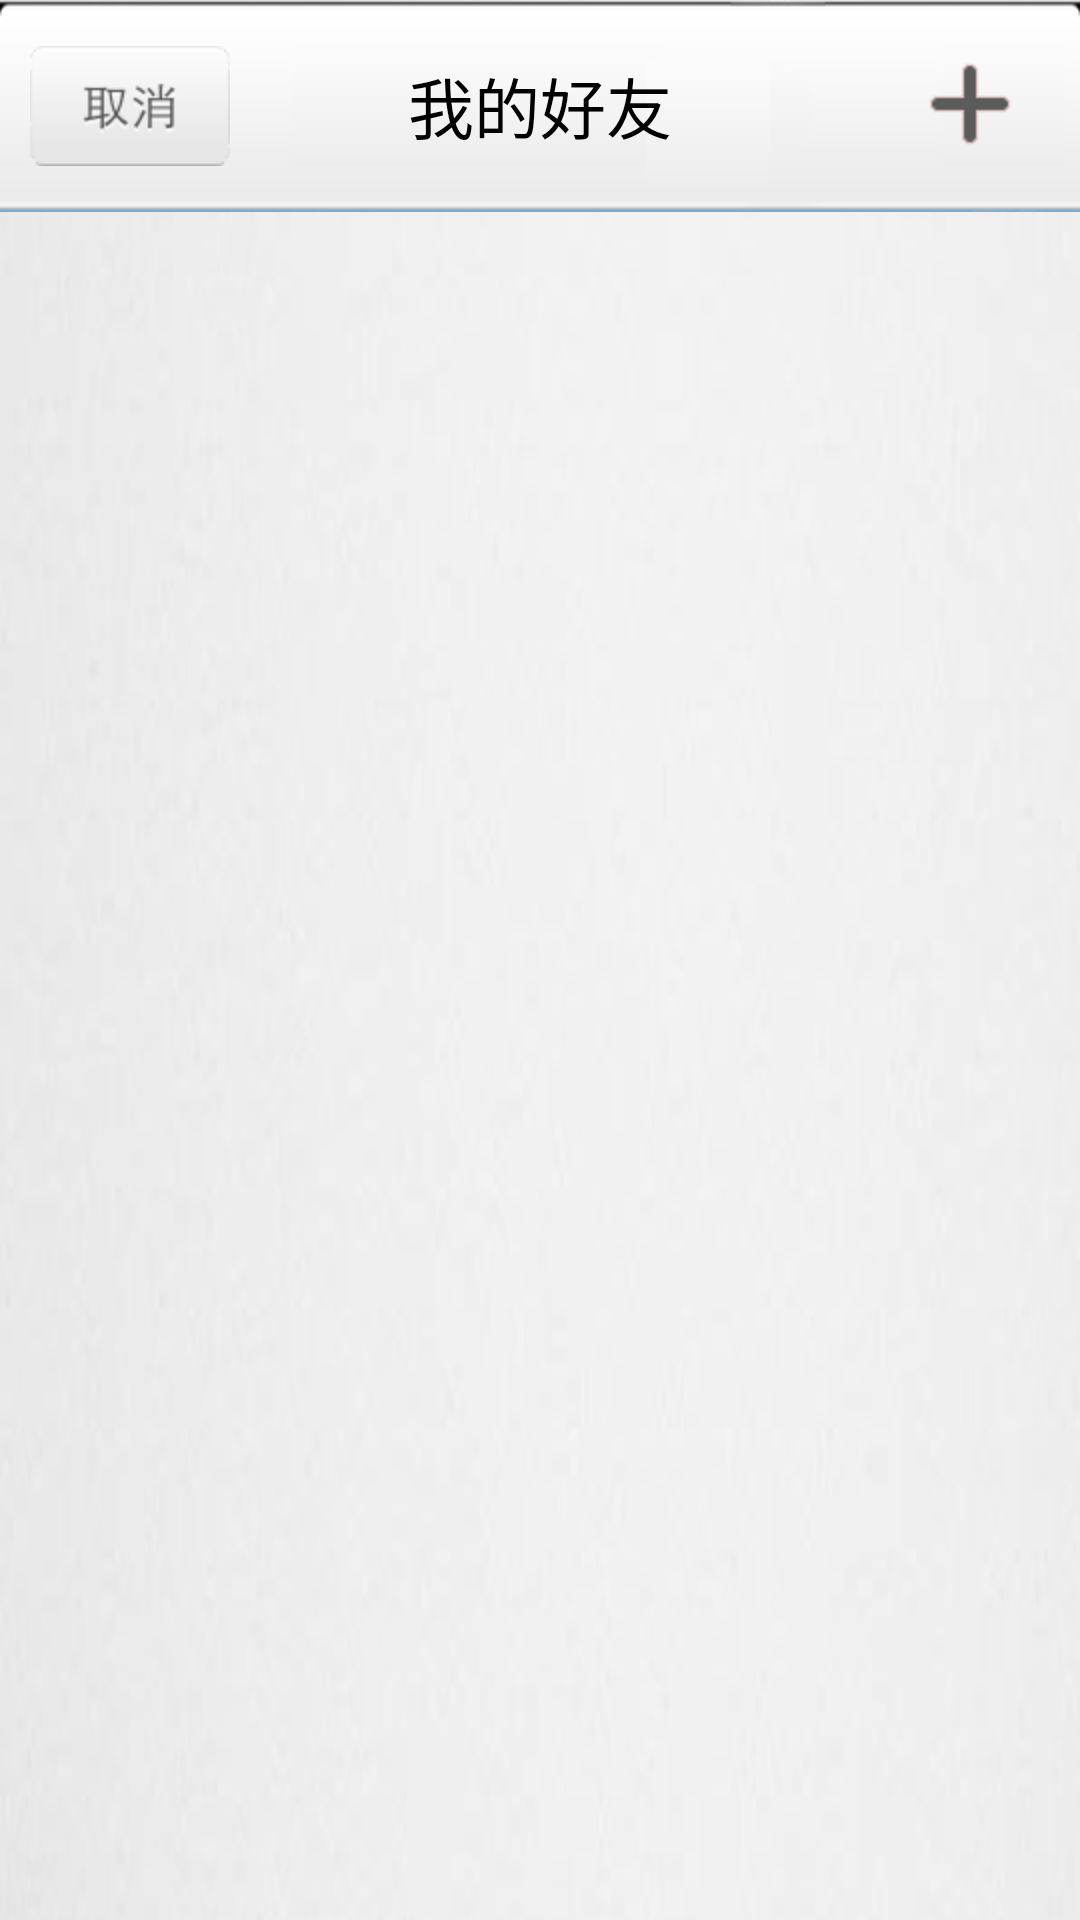

Where to tap for icons on this 1080×1920 app screen, as (x,y):
addfriend bnt effect: (970,104)
